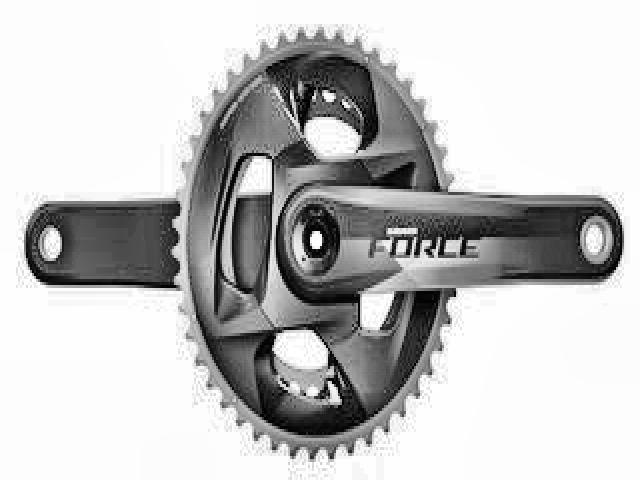cranks_set: (172, 27, 625, 463)
